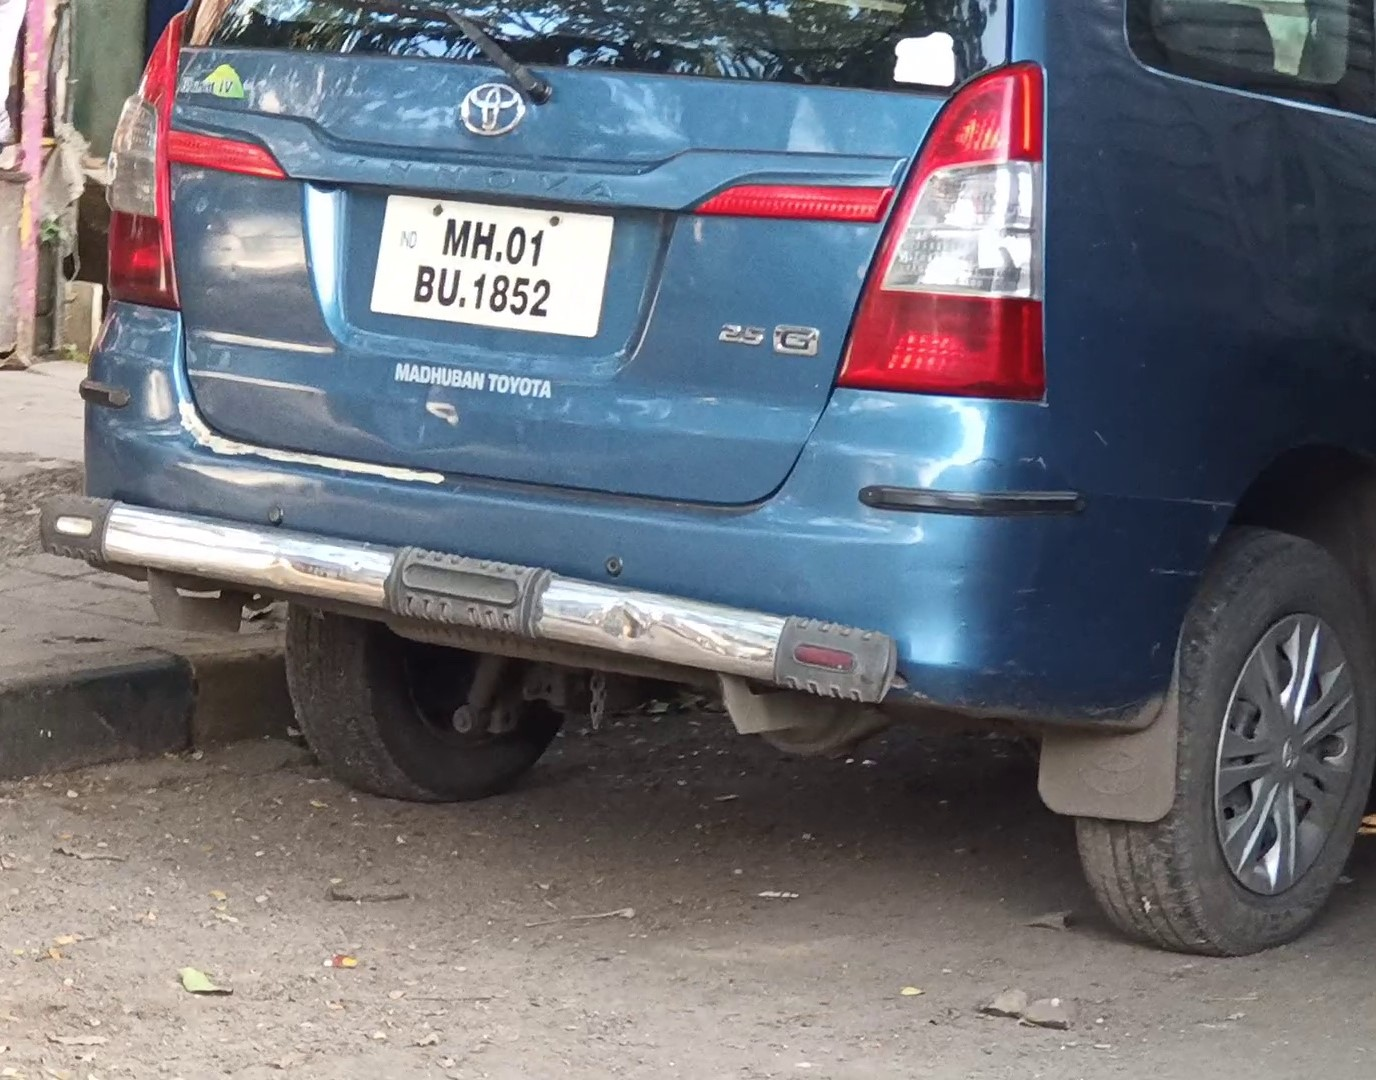MH01BU1852: (368, 195, 613, 339)
